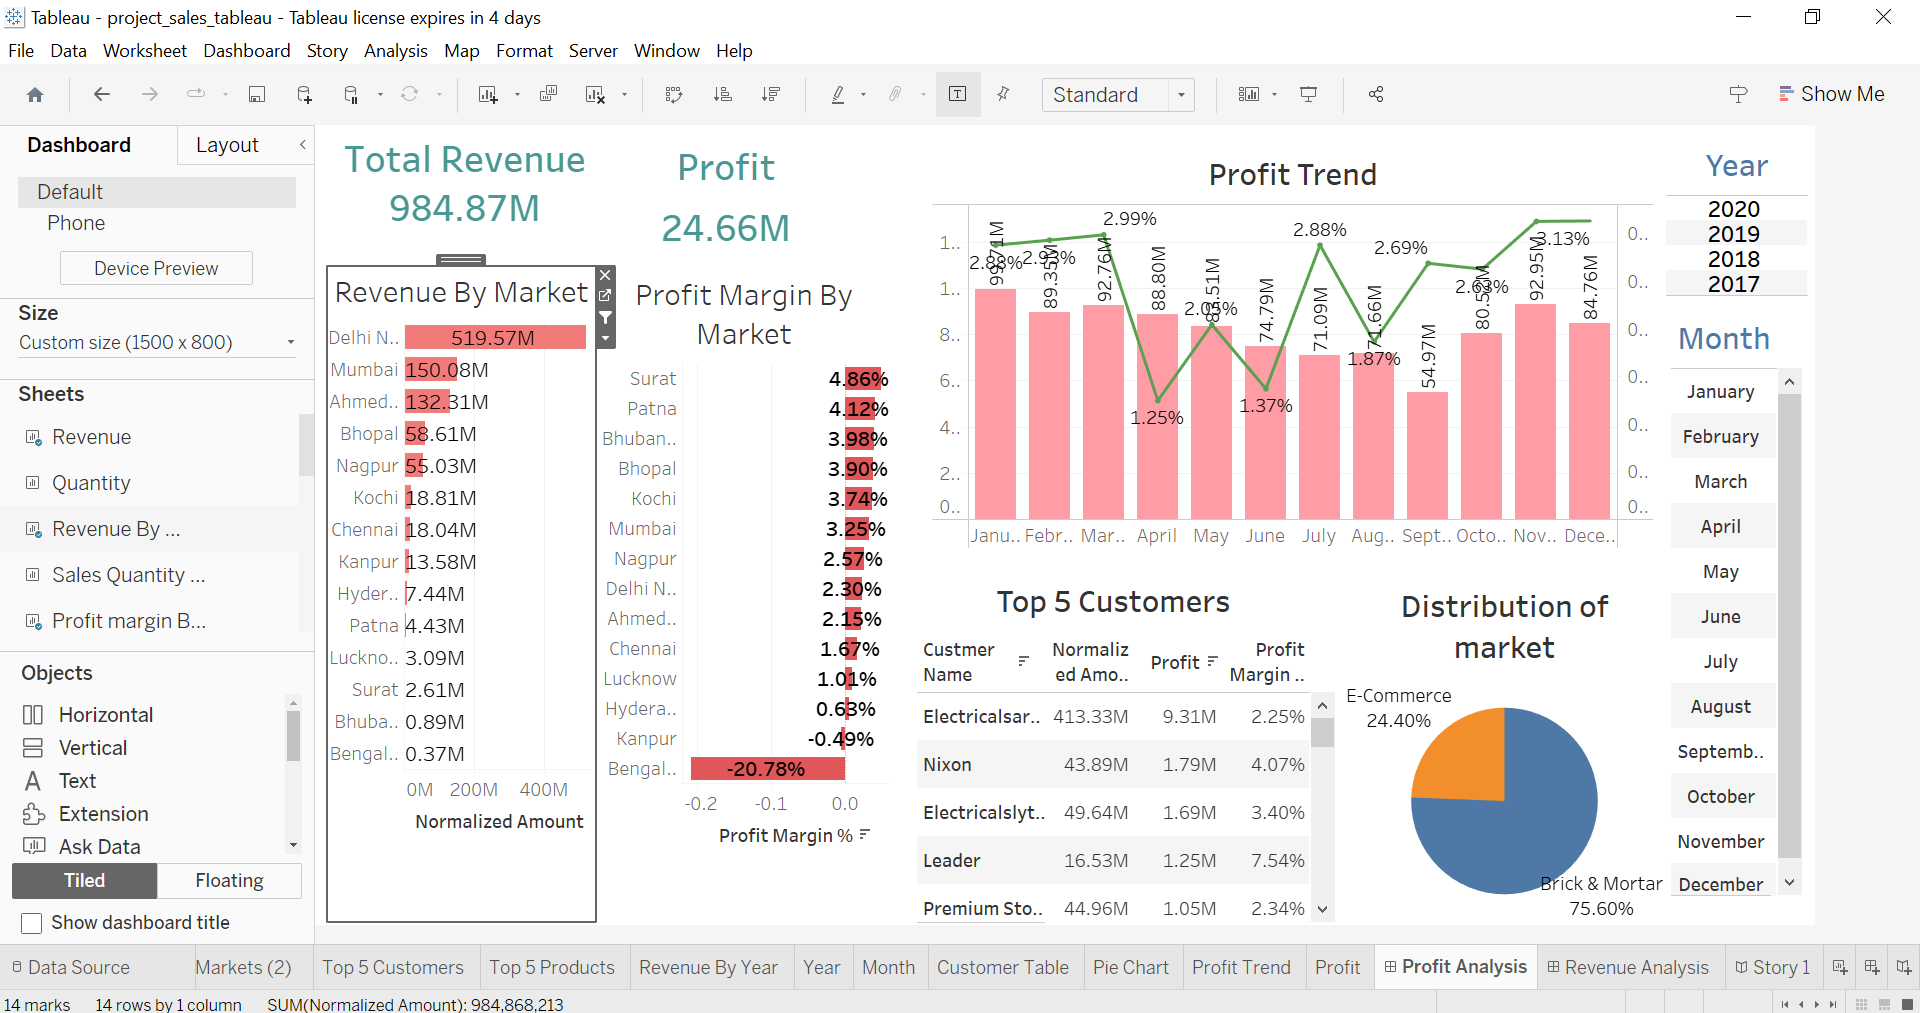

Layout of this report page (visuals, bound fields, positions):
{"tool":"tableau","page":{"name":"Profit Analysis","canvas":[1500,800],"ordinal":0},"visuals":[{"type":"worksheet","title":"Revenue","mark":"Automatic","box":[8,8,312,107]},{"type":"worksheet","title":"Profit","mark":"Automatic","box":[317,12,204,117]},{"type":"worksheet","title":"Year","mark":"Automatic","rows":["cy_date"],"box":[1351,14,143,168]},{"type":"worksheet","title":"Profit Trend","mark":"Bar","rows":["Calculation_345651339696406528","Calculation_492862684414570496"],"cols":["cy_date"],"box":[617,23,722,401]},{"type":"worksheet","title":"Revenue By Markets","mark":"Automatic","rows":["markets_name"],"cols":["Calculation_345651339696406528"],"box":[13,142,267,654]},{"type":"worksheet","title":"Profit margin By Markets (2)","mark":"Automatic","rows":["markets_name"],"cols":["Calculation_492862684414570496"],"box":[283,145,305,650]},{"type":"worksheet","title":"Customer Table","mark":"Automatic","rows":["custmer_name"],"box":[602,450,418,348]},{"type":"worksheet","title":"Pie Chart","mark":"Pie","box":[1030,455,319,345]}]}

Visuals, with their boxes on the page's 1500x800 design canvas (x1, y1, x2, y2). These are canvas units, not pixel positions in the 1920x1013 screenshot, which may show the page scaled, cropped or inside an application window:
"Revenue" worksheet: detection(8, 8, 320, 115)
"Profit" worksheet: detection(317, 12, 521, 129)
"Year" worksheet: detection(1351, 14, 1494, 182)
"Profit Trend" worksheet (Bar marks): detection(617, 23, 1339, 424)
"Revenue By Markets" worksheet: detection(13, 142, 280, 796)
"Profit margin By Markets (2)" worksheet: detection(283, 145, 588, 795)
"Customer Table" worksheet: detection(602, 450, 1020, 798)
"Pie Chart" worksheet (Pie marks): detection(1030, 455, 1349, 800)
